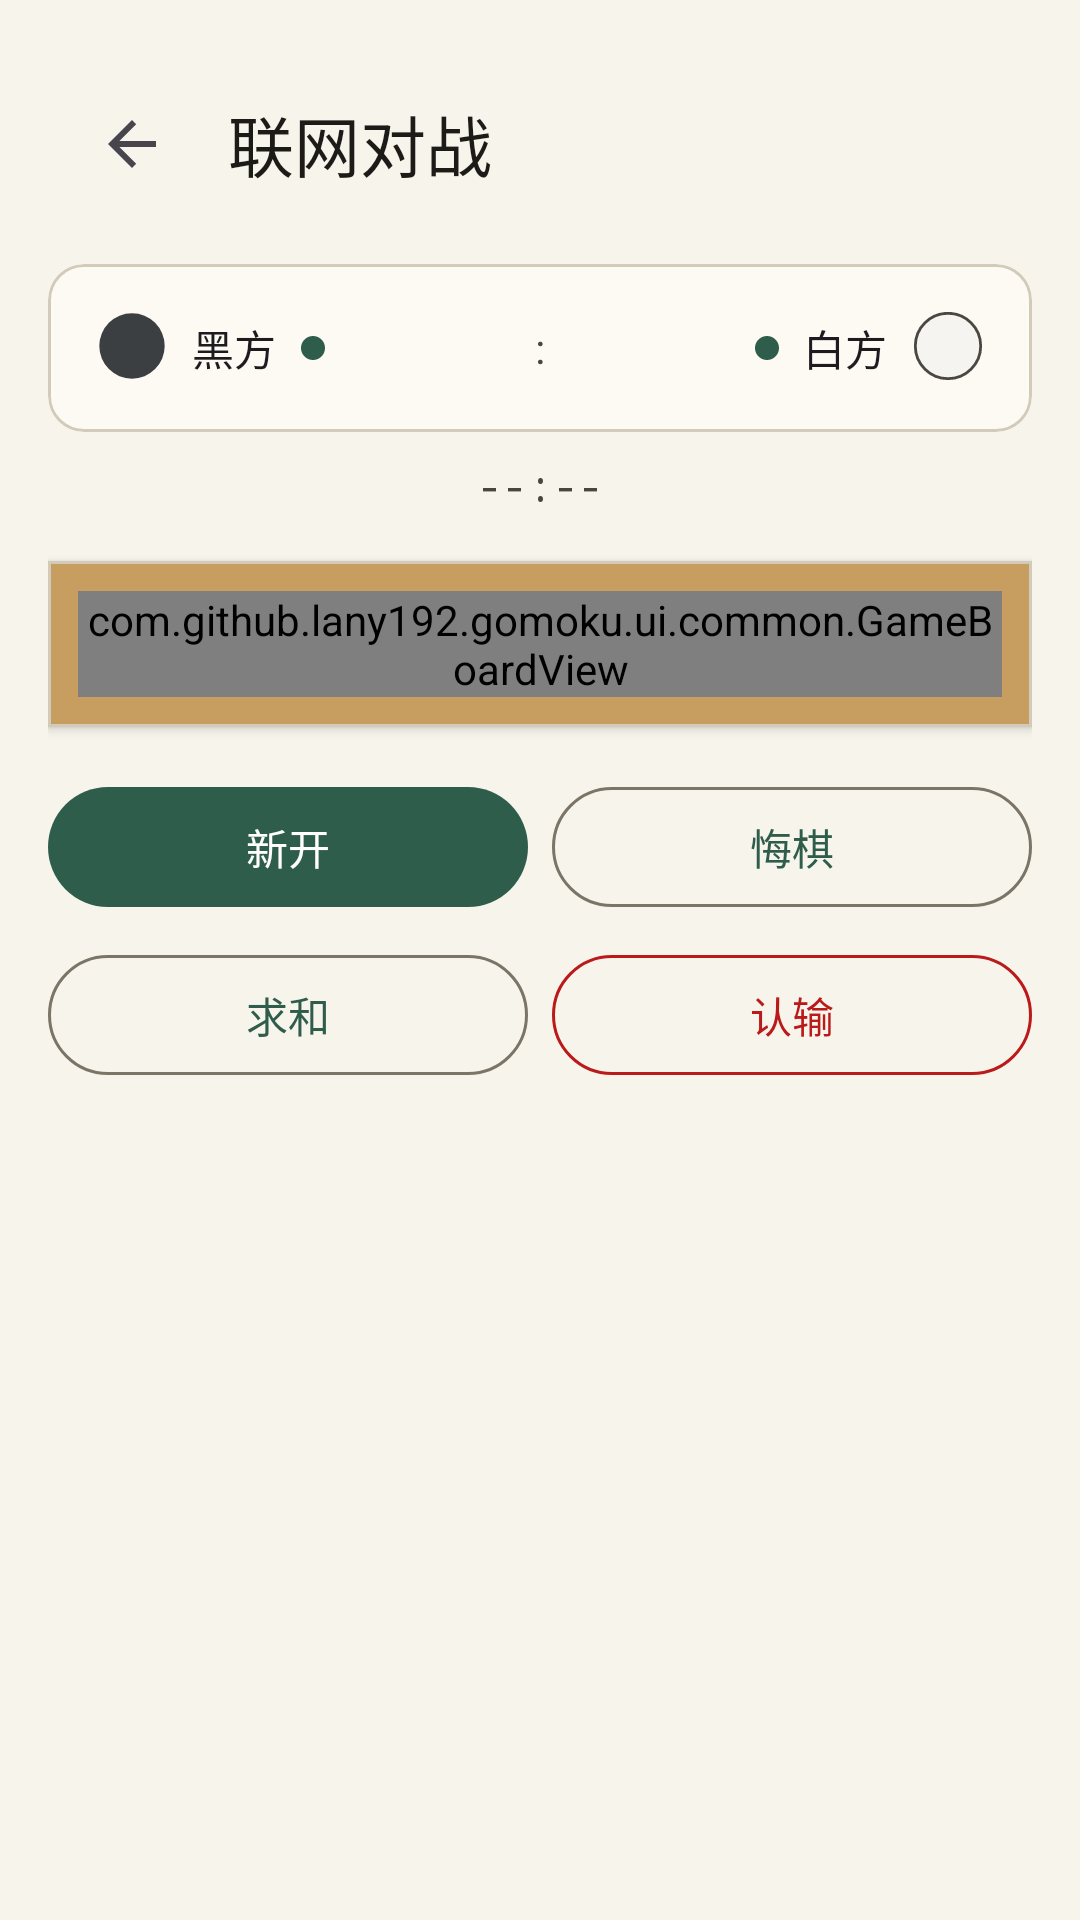

Screen size 1080px x 1920px. Icon name, then its box in pixels as [left=x1, top=y1, right=x2, bottom=y2]:
chess: [left=914, top=312, right=982, bottom=380], [left=99, top=313, right=165, bottom=379]
dot: [left=301, top=336, right=325, bottom=360], [left=755, top=336, right=779, bottom=360]
